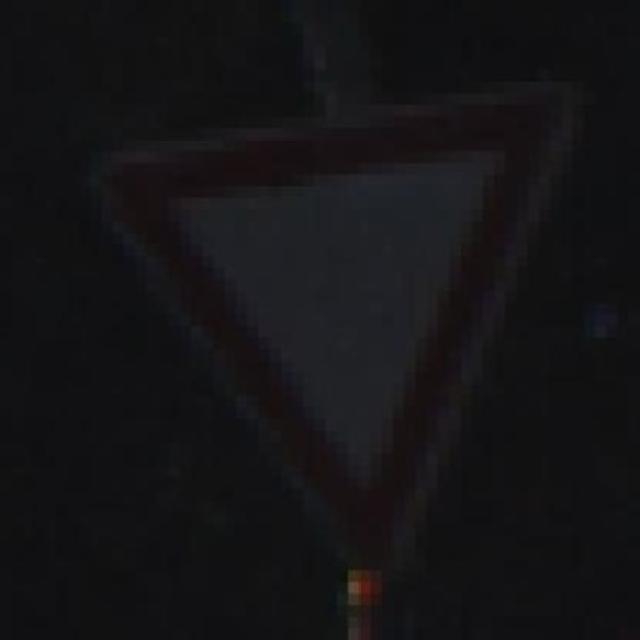Give Way: (82, 57, 622, 605)
